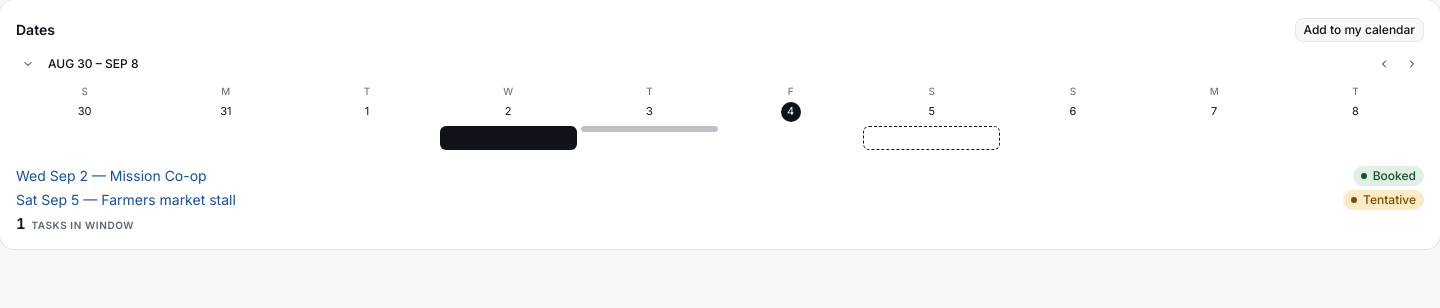
Test: DatesPanel › offers a Retry control on the load-failure branch that refetches the window
What coordinates should you click on to do the following:
click the button named "Later dates"
I would click on:
 (1412, 64)
Its box is x1=1400 y1=52 x2=1424 y2=76.
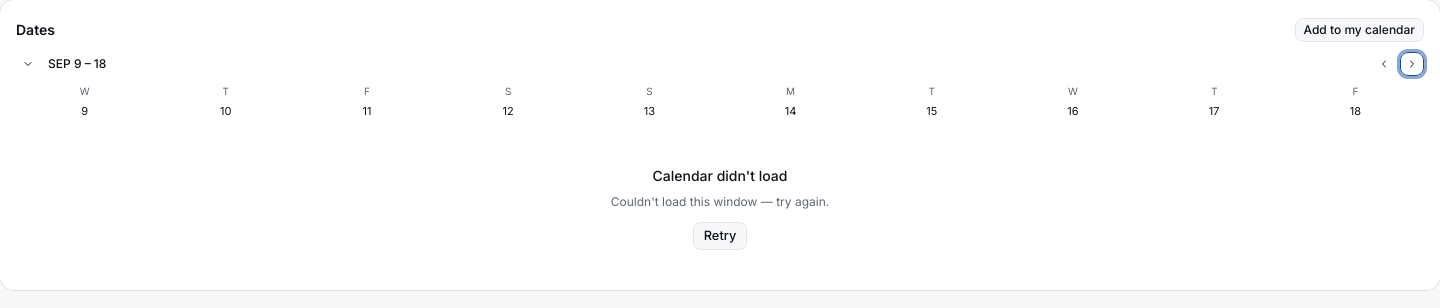
Check: the text "Couldn't load this window — try again." is shown, box x1=611 y1=194 x2=829 y2=210
What coordinates should you click on to do the following:
click the button "Retry"
I would click on:
 (720, 236)
Its box is x1=693 y1=222 x2=747 y2=250.
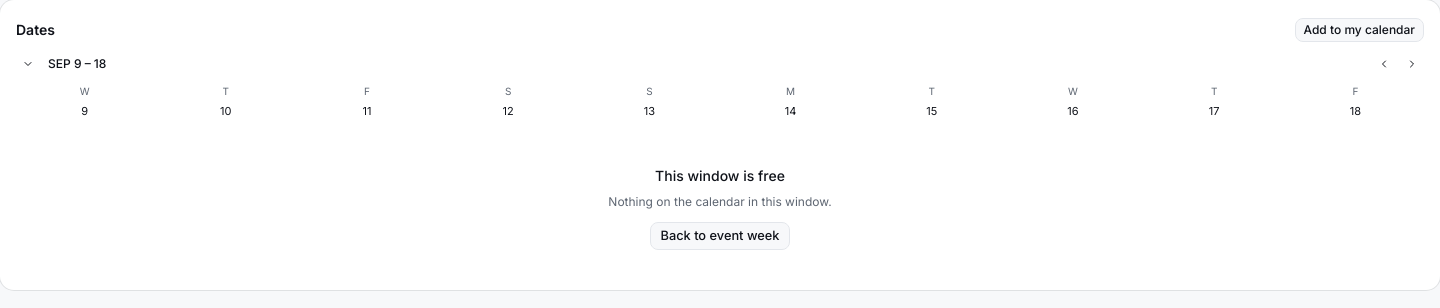
Check: the text "Couldn't load this window — try again." is gone
Check: the text "Nothing on the calendar in this window." is shown, box x1=608 y1=194 x2=832 y2=210
